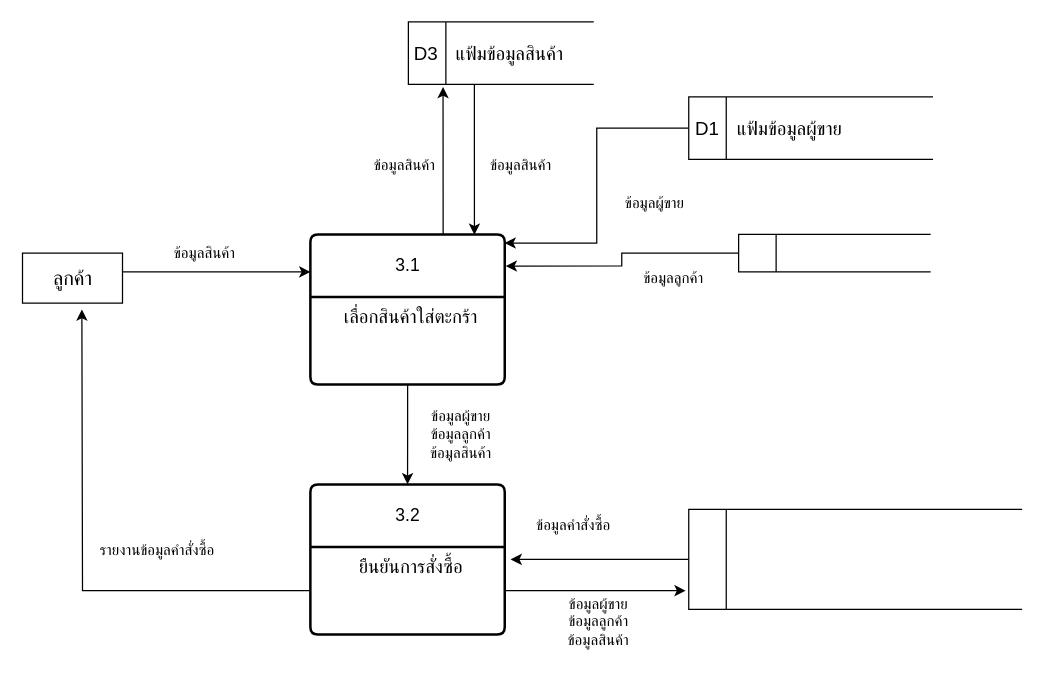
Image size: 1044x681. Some labels were removed from this diagram. Here are the shapes that lost their labels. From the top down, the centre of each, then its label:
[834,252]: D2 แฟ้มข้อมูลลูกค้า
[855,558]: D4 แฟ้มข้อมูลคำสั่งซื้อ
